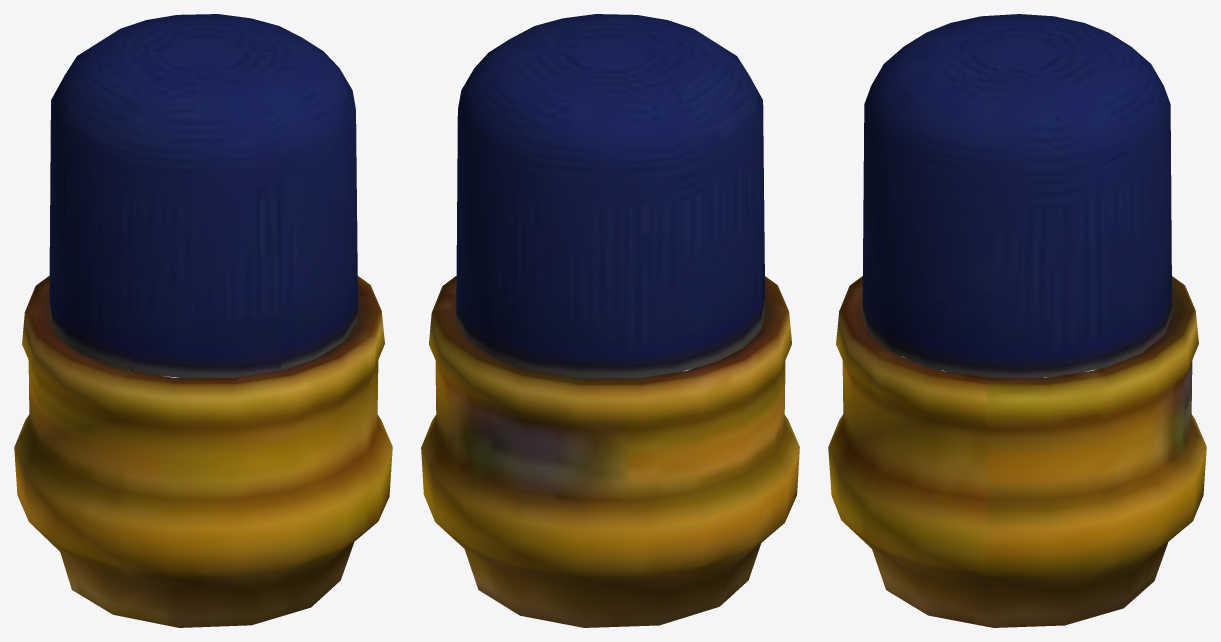
Rendered from electric.flasherlight.deployed.glb.
3 renders of one model, left to right at view 1: azimuth 30°, elevation 25°; view 2: azimuth 150°, elevation 25°; view 3: azimuth 270°, elevation 25°, orthographic.
Visible parts, largest first — view 1: AirfieldSirenLight_LOD0; view 2: AirfieldSirenLight_LOD0; view 3: AirfieldSirenLight_LOD0.
Part boxes in pixels (x1=…): AirfieldSirenLight_LOD0: x1=14, y1=14, x2=392, y2=627; AirfieldSirenLight_LOD0: x1=421, y1=14, x2=799, y2=627; AirfieldSirenLight_LOD0: x1=828, y1=14, x2=1206, y2=627.
Bounding box in the file's own units: 0.1188 × 0.1824 × 0.1205.
Materials: 1 (1 with a texture image).
